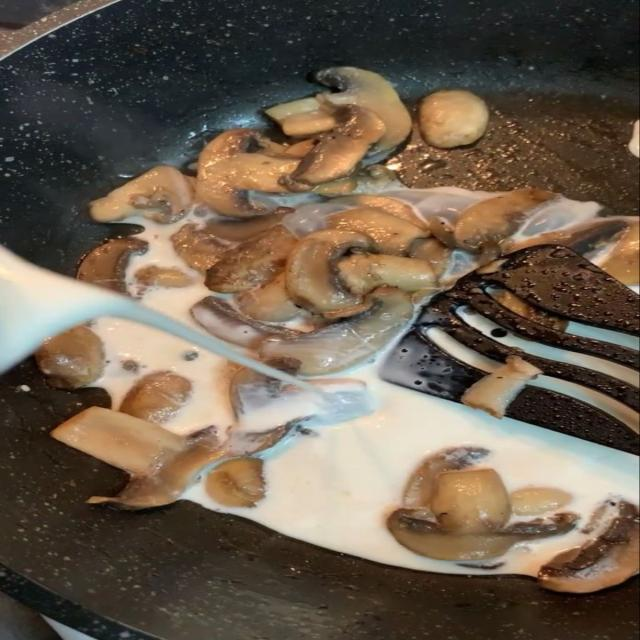champignon mushrooms: (388, 448, 577, 560), (88, 426, 292, 509), (260, 287, 413, 375), (266, 67, 411, 154), (388, 509, 575, 561), (230, 368, 373, 435), (538, 502, 639, 593), (51, 407, 183, 476), (196, 130, 299, 217), (283, 105, 384, 191), (315, 67, 411, 153), (286, 229, 374, 317), (454, 188, 555, 257), (206, 224, 297, 293), (90, 166, 193, 223), (191, 296, 299, 348), (403, 447, 489, 508), (505, 217, 636, 257), (431, 469, 511, 534), (462, 355, 542, 418), (327, 208, 430, 255), (35, 326, 104, 389), (418, 91, 489, 148), (78, 237, 148, 293), (339, 254, 438, 293), (119, 372, 192, 423), (229, 367, 285, 426), (237, 272, 301, 322), (492, 290, 568, 331), (205, 207, 291, 242), (205, 457, 265, 507), (332, 195, 424, 226), (172, 223, 228, 272), (598, 219, 639, 285), (280, 106, 336, 138), (511, 487, 571, 516), (410, 238, 451, 278), (265, 97, 321, 125), (135, 265, 191, 287), (312, 174, 358, 198)
